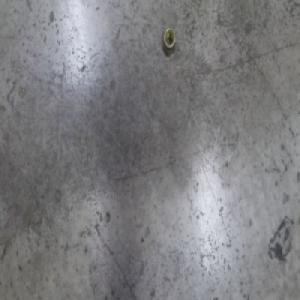Nut: (161, 23, 175, 54)
